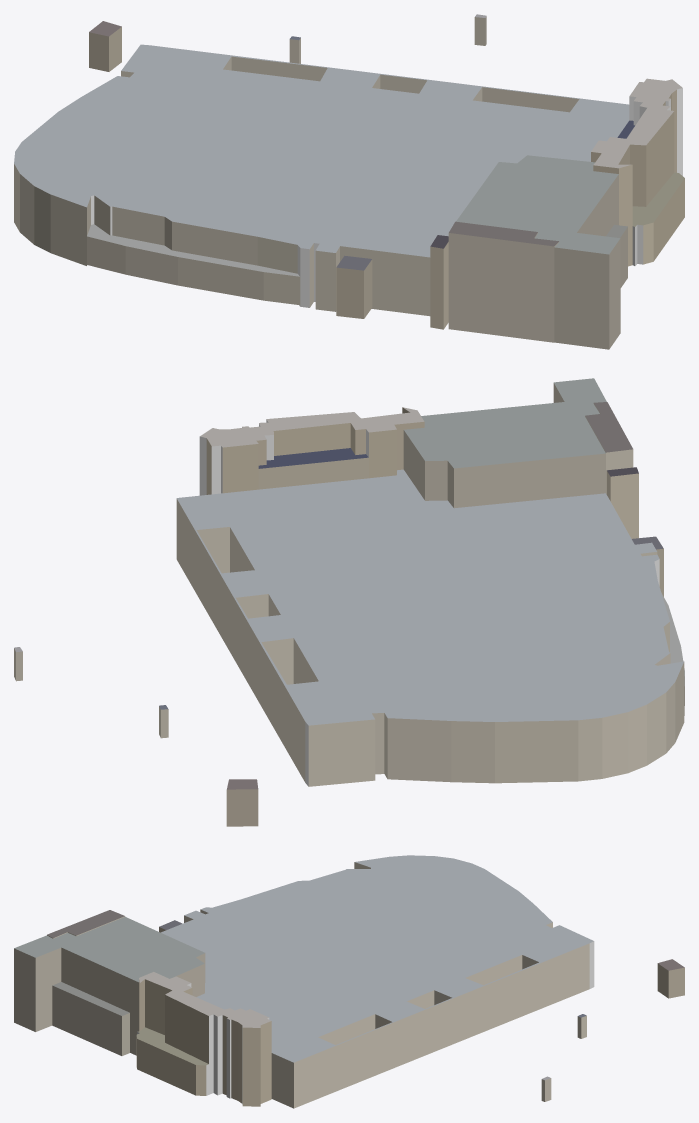
3 views of the same model, one above another, from view 1: azimuth 30°, elevation 25°; view 2: azimuth 150°, elevation 25°; view 3: azimuth 270°, elevation 25° (orthographic). The views are drawn at different scales.
Parts seen in each view (by area): view 1: tuile; view 2: tuile; view 3: tuile.
Part boxes in pixels (x1,y1,x2,y2): tuile: (14, 14, 684, 349); tuile: (14, 378, 684, 826); tuile: (14, 855, 684, 1108).
Bounding box in the file's own units: 188 × 34.21 × 257.
